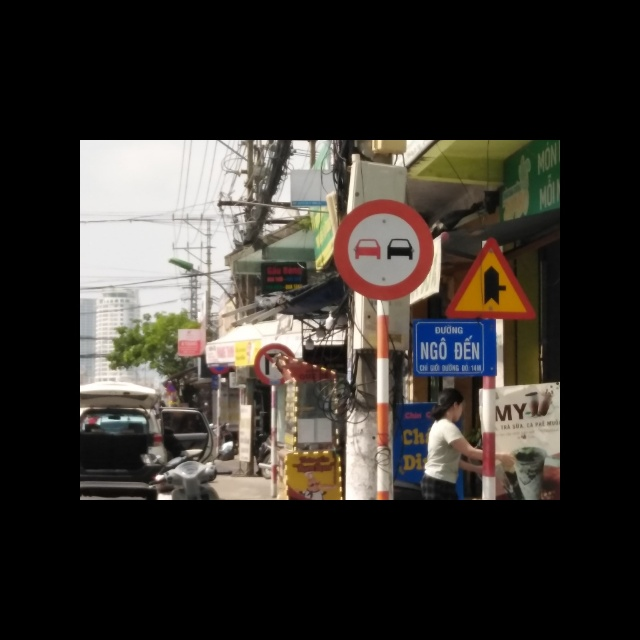Cấm vượt: (331, 199, 434, 303)
Giao nhau với đường không ưu tiên: (446, 234, 538, 320)
